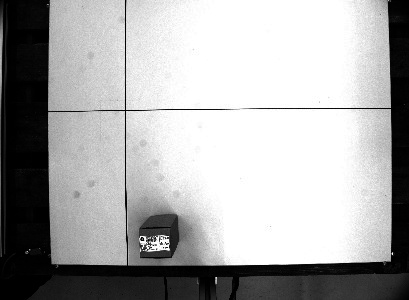b2: (136, 212, 182, 259)
